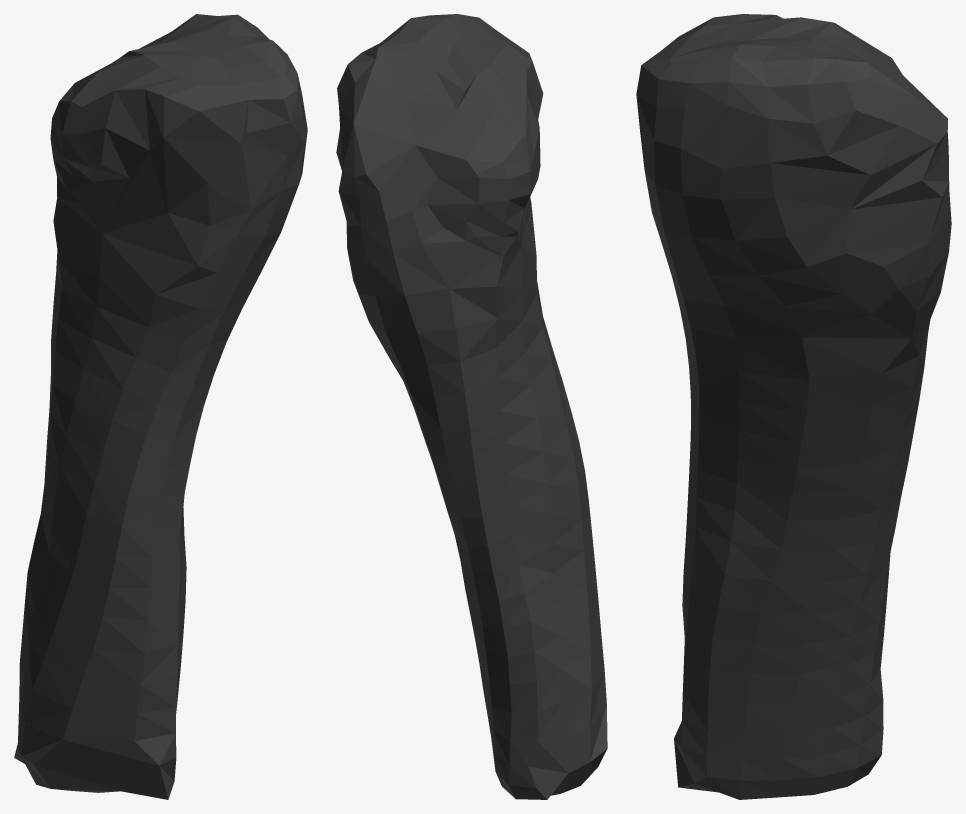
File: Metacarpal_bone_IV.glb
3 renders of one model, left to right at view 1: azimuth 30°, elevation 25°; view 2: azimuth 150°, elevation 25°; view 3: azimuth 270°, elevation 25°, orthographic. The views are drawn at different scales.
Parts seen in each view (by area): view 1: Metacarpal_bone_IV; view 2: Metacarpal_bone_IV; view 3: Metacarpal_bone_IV.
Boxes of the visible parts, x1=… form: Metacarpal_bone_IV: x1=14, y1=14, x2=307, y2=799; Metacarpal_bone_IV: x1=336, y1=14, x2=607, y2=799; Metacarpal_bone_IV: x1=636, y1=14, x2=951, y2=799.
Bounding box in the file's own units: 23.39 × 64.53 × 22.74.
1 material, 1 textured.
